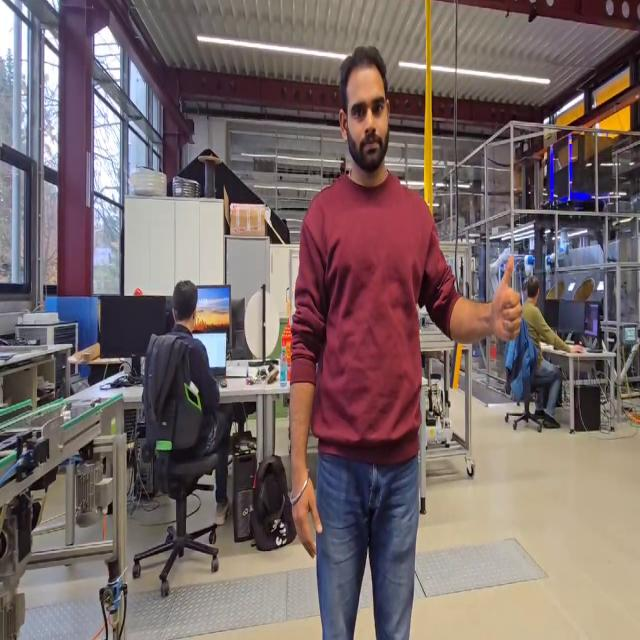thumbs_up: (487, 249, 526, 348)
